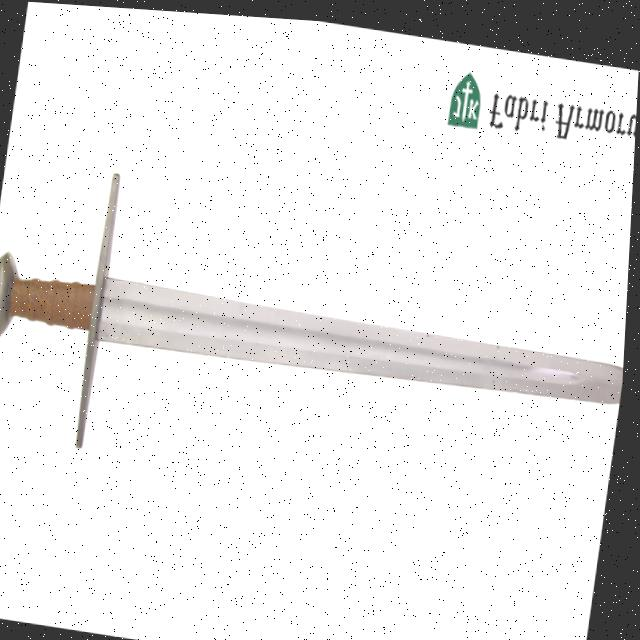knife: (0, 147, 634, 516)
